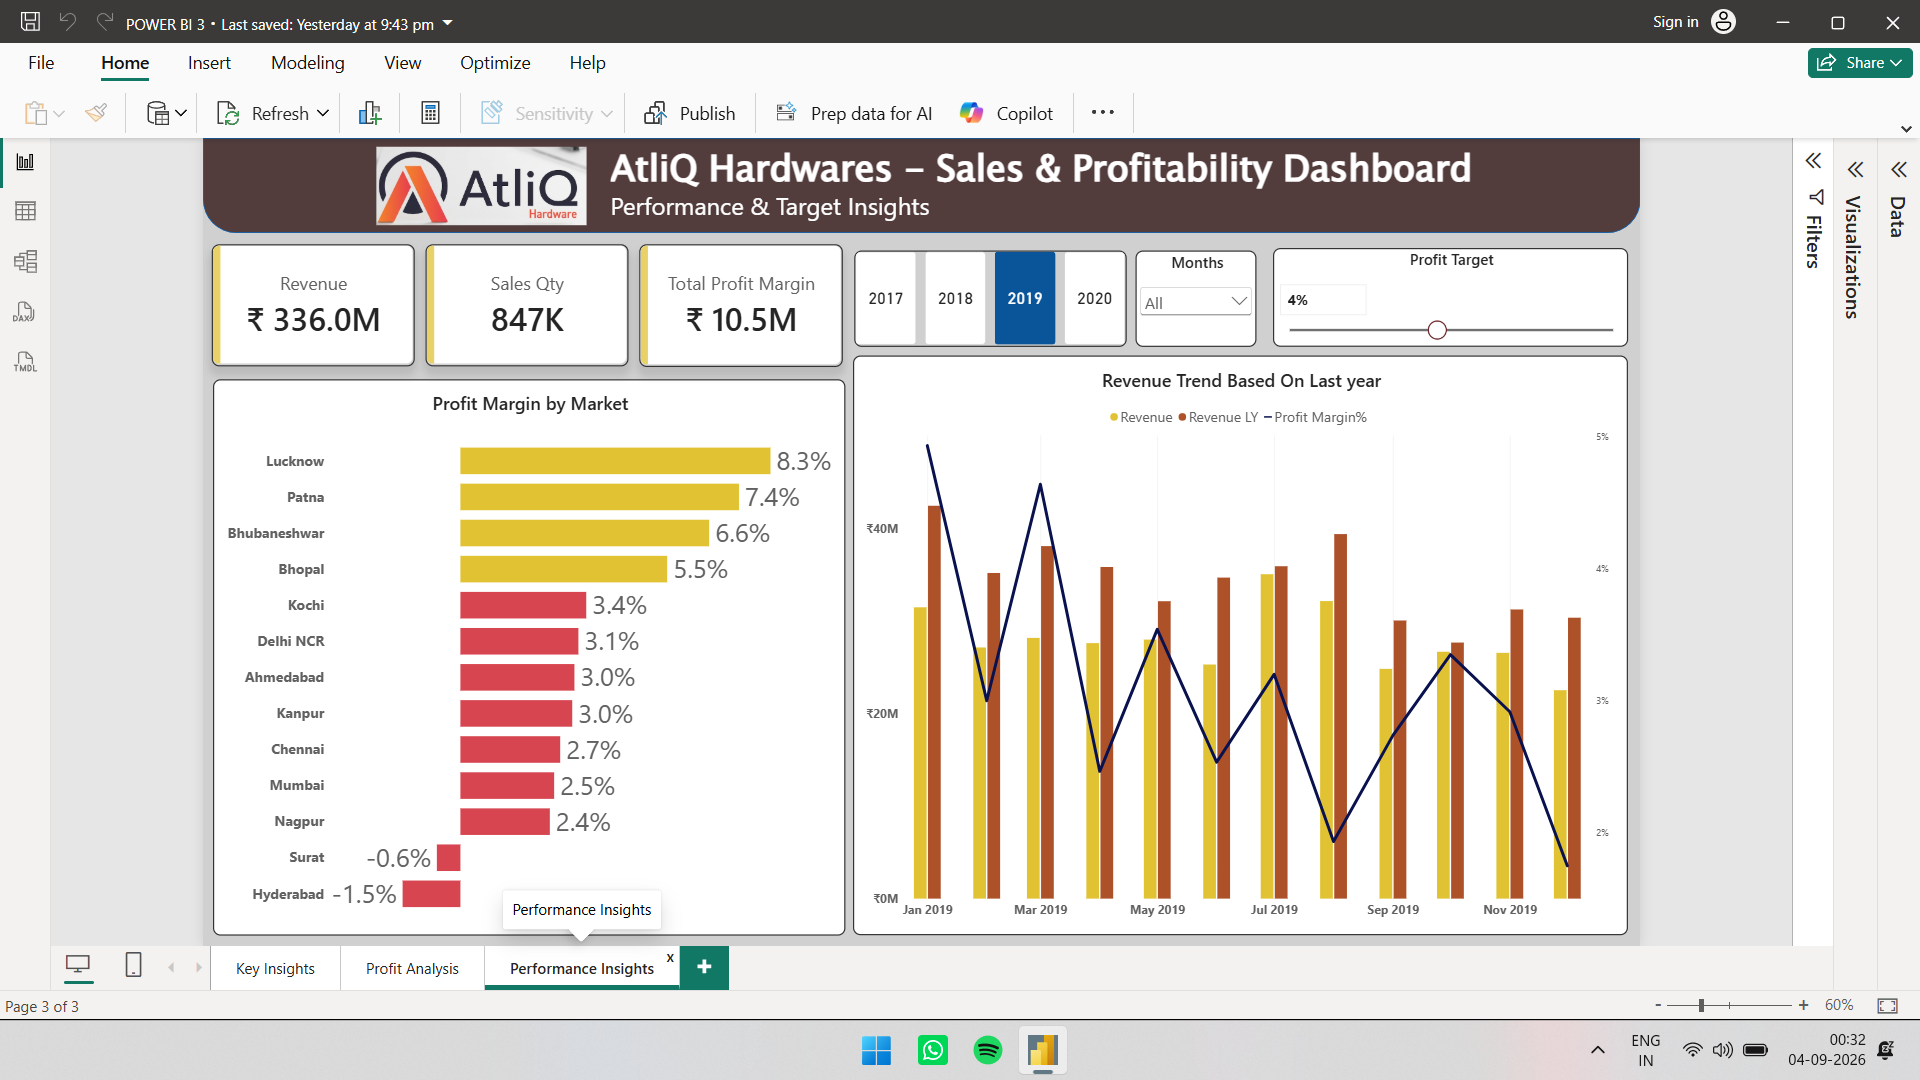

What the dashboard file says about the page in this screenshot:
{"tool":"powerbi","page":{"name":"Performance Insights","canvas":[1920,1080],"ordinal":2},"visuals":[{"type":"lineClusteredColumnComboChart","title":"Revenue Trend Based On Last year","fields":{"Y":["Basic Measures.Revenue","Basic Measures.Revenue LY"],"Y2":["Basic Measures.Profit Margin%"],"Category":["sales date.cy_date"]},"box":[868.3,290.5,1035.3,774.8],"z":0},{"type":"barChart","title":"Profit Margin by Market","fields":{"Category":["sales markets.markets_name","sales markets.zone"],"Y":["Basic Measures.Profit Margin%"]},"box":[13.4,322.3,844.9,743],"z":1000},{"type":"slicer","title":"Profit Target","fields":{"Values":["Profit Target.Profit Target"]},"box":[1429.3,146.9,474.2,131.9],"z":2000},{"type":"slicer","title":"Months","fields":{"Values":["sales date.cy_date"]},"box":[1245.6,150.3,162,128.6],"z":3000},{"type":"shape","box":[0,0,1920.2,126.9],"z":4000},{"type":"advancedSlicerVisual","fields":{"Values":["sales date.year"]},"box":[869.9,150.3,364,128.6],"z":5000},{"type":"cardVisual","fields":{"Data":["Basic Measures.Total Profit Margin"]},"box":[582.4,142.3,272.2,163.6],"z":6000},{"type":"cardVisual","title":"Revenue","fields":{"Data":["Basic Measures.Revenue"]},"box":[11.7,141.9,271.4,162.9],"z":7000},{"type":"cardVisual","title":"Sales Qty.","fields":{"Data":["Basic Measures.Sales Qty"]},"box":[297.2,141.9,271.4,162.9],"z":8000},{"type":"image","box":[200.9,10.9,343.6,104.7],"z":8503},{"type":"textbox","box":[544.3,4.3,1165.4,81.4],"z":9003},{"type":"textbox","box":[544.3,67.7,1134.7,52.5],"z":9503}]}

Visuals, with their boxes on the page's 1920x1080 design canvas (x1, y1, x2, y2). These are canvas units, not pixel positions in the 1920x1080 screenshot, which may show the page scaled, cropped or inside an application window:
"Revenue Trend Based On Last year" lineClusteredColumnComboChart: 868 290 1904 1065
"Profit Margin by Market" barChart: 13 322 858 1065
"Profit Target" slicer: 1429 147 1904 279
"Months" slicer: 1246 150 1408 279
shape: 0 0 1920 127
advancedSlicerVisual - sales date.year: 870 150 1234 279
cardVisual - Basic Measures.Total Profit Margin: 582 142 855 306
"Revenue" cardVisual: 12 142 283 305
"Sales Qty." cardVisual: 297 142 569 305
image: 201 11 544 116
textbox: 544 4 1710 86
textbox: 544 68 1679 120
